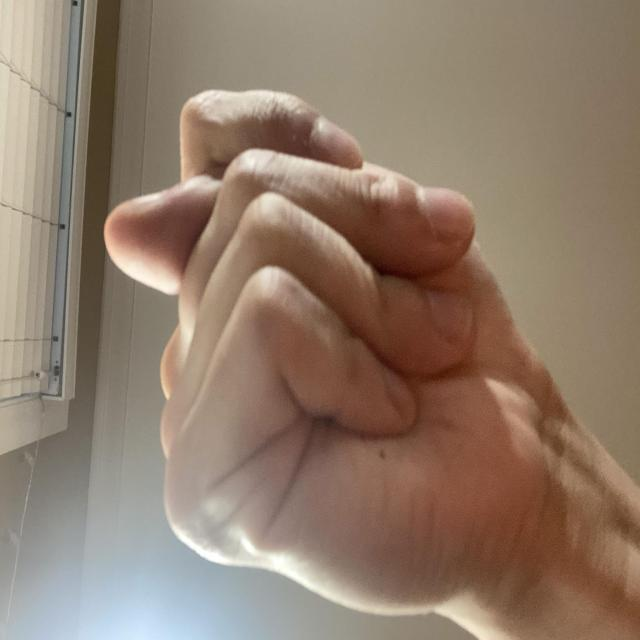T: (9, 131, 427, 640)
